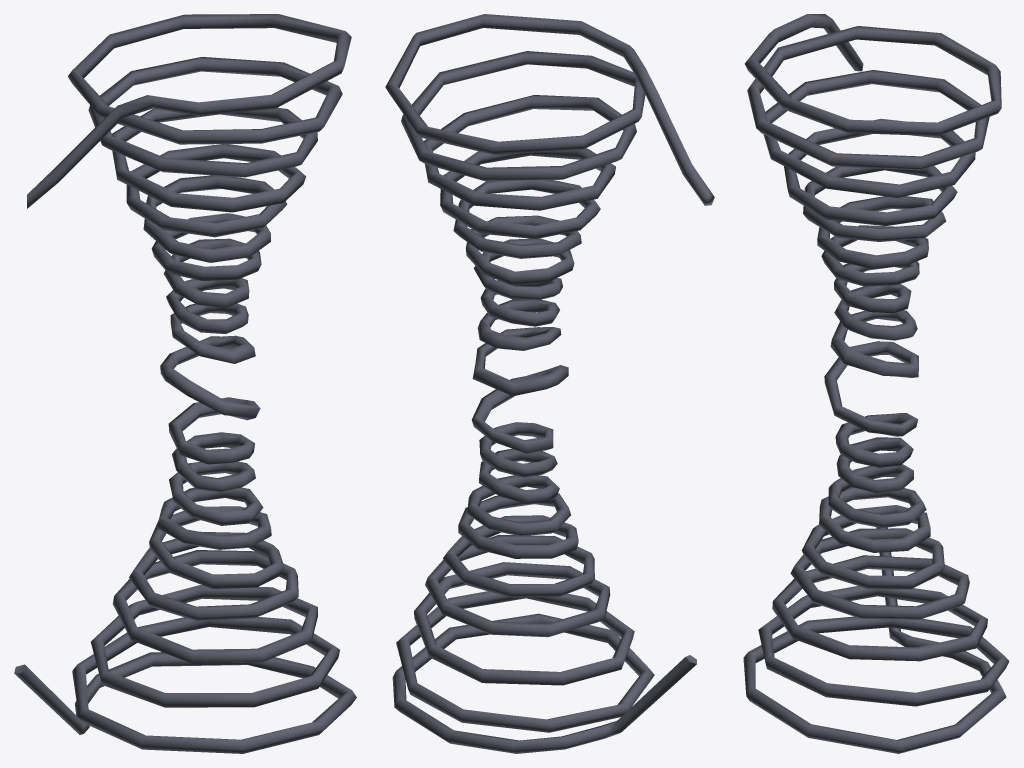
The model's file is ElecroMagnet_Wire.fbx.
3 views of the same model, side by side, from view 1: azimuth 30°, elevation 25°; view 2: azimuth 150°, elevation 25°; view 3: azimuth 270°, elevation 25° (orthographic). The views are drawn at different scales.
Parts seen in each view (by area): view 1: ElectroMagnet_Wire; view 2: ElectroMagnet_Wire; view 3: ElectroMagnet_Wire.
Part boxes in pixels (x1,y1,x2,y2): ElectroMagnet_Wire: (14,14,356,753); ElectroMagnet_Wire: (385,14,714,753); ElectroMagnet_Wire: (743,14,1009,753).
Size of the model in its own units: 2.45 by 4.9 by 1.84.
